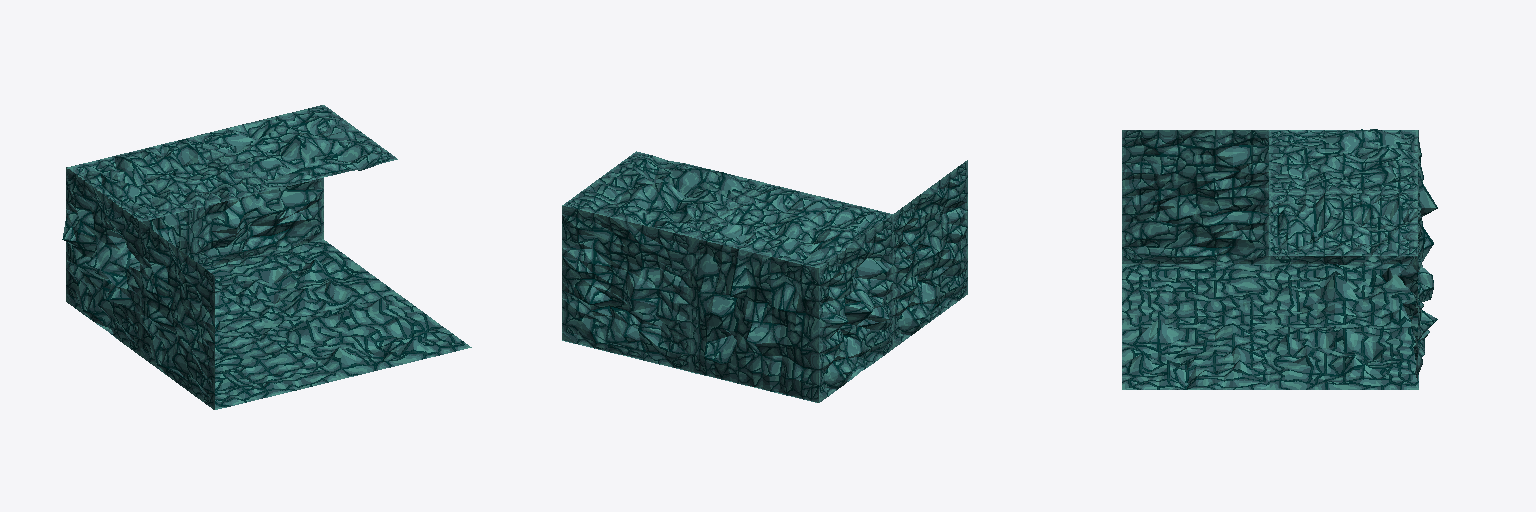
3 views of the same model, side by side, from view 1: azimuth 30°, elevation 25°; view 2: azimuth 150°, elevation 25°; view 3: azimuth 270°, elevation 25° (orthographic).
Parts seen in each view (by area): view 1: Plane.004, Plane.005, Plane.009, Plane.002, Plane.008, Plane.003, Plane.007, Plane, Plane.001, Plane.006; view 2: Plane.007, Plane.006, Plane.004, Plane.005, Plane.008, Plane.009; view 3: Plane.004, Plane.002, Plane.008, Plane.009, Plane, Plane.003, Plane.001, Plane.007, Plane.005, Plane.006.
Boxes of the visible parts, box(x1,y1,x2,y2) form: Plane.004: box(140, 221, 214, 409); Plane.005: box(62, 167, 140, 355); Plane.009: box(196, 105, 397, 190); Plane.002: box(269, 293, 471, 378); Plane.008: box(67, 136, 268, 221); Plane.003: box(205, 239, 395, 323); Plane.007: box(196, 105, 323, 267); Plane: box(157, 325, 342, 409); Plane.001: box(75, 286, 268, 338); Plane.006: box(67, 136, 195, 261); Plane.007: box(562, 206, 690, 370); Plane.006: box(690, 237, 818, 402); Plane.004: box(893, 160, 967, 348); Plane.005: box(819, 215, 892, 402); Plane.008: box(692, 183, 893, 267); Plane.009: box(562, 151, 763, 236); Plane.004: box(1122, 130, 1270, 263); Plane.002: box(1122, 319, 1269, 389); Plane.008: box(1269, 129, 1417, 192); Plane.009: box(1269, 193, 1417, 255); Plane: box(1122, 264, 1269, 326); Plane.003: box(1270, 326, 1418, 389); Plane.001: box(1270, 262, 1413, 326); Plane.007: box(1400, 210, 1437, 380); Plane.005: box(1271, 130, 1418, 264); Plane.006: box(1397, 137, 1437, 291).
Size of the model in its own units: 30.83 by 17.11 by 30.8.
Materials: 10 (2 with a texture image).